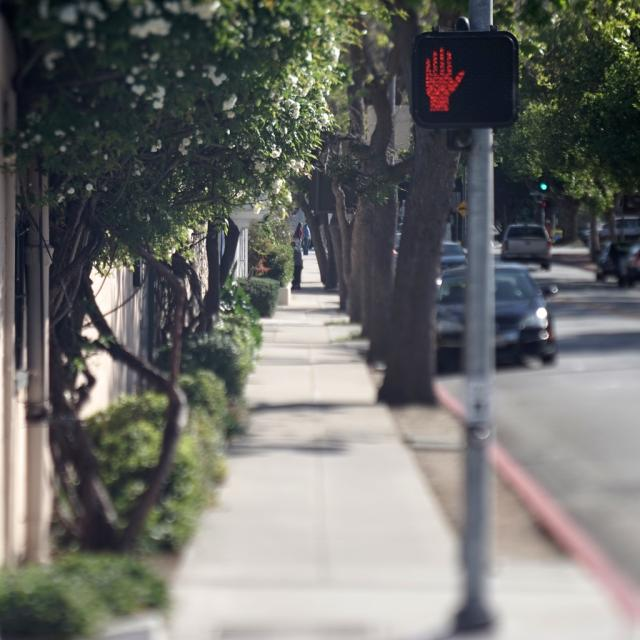car: (584, 215, 639, 242)
